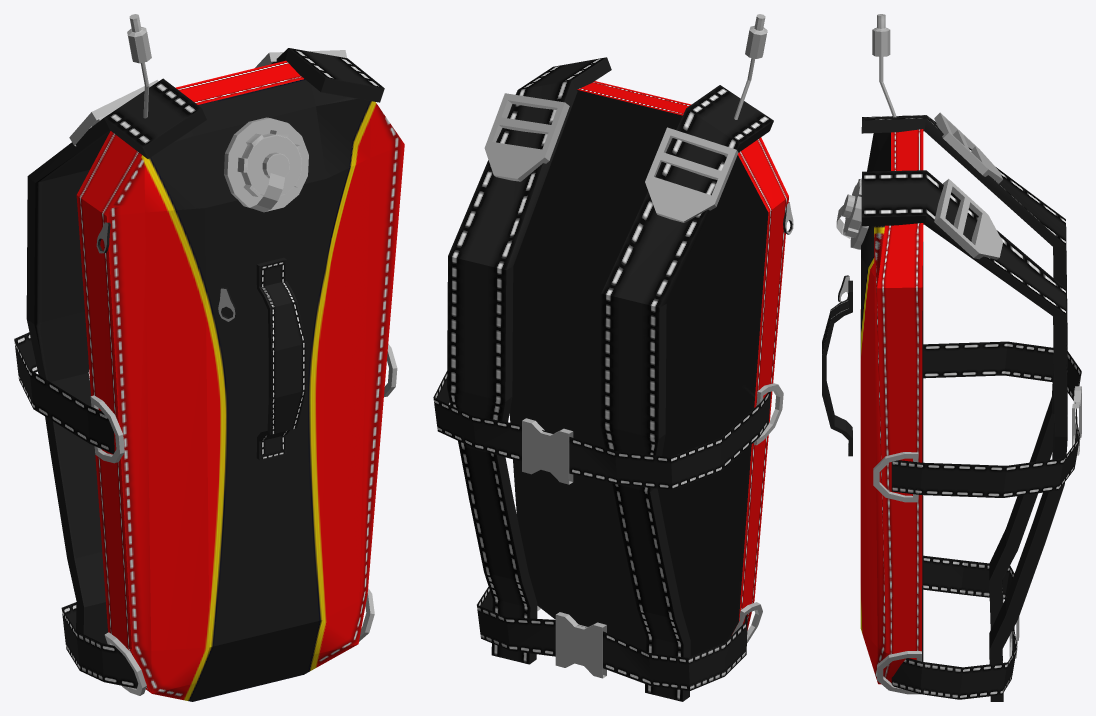
File: BackHydration.FBX
3 views of the same model, side by side, from view 1: azimuth 30°, elevation 25°; view 2: azimuth 150°, elevation 25°; view 3: azimuth 270°, elevation 25° (orthographic). The views are drawn at different scales.
Parts seen in each view (by area): view 1: BackHydration; view 2: BackHydration; view 3: BackHydration.
Part boxes in pixels (box(x1,y1,x2,y2)): BackHydration: box(14, 14, 404, 701); BackHydration: box(433, 14, 793, 701); BackHydration: box(822, 14, 1081, 701).
Bounding box in the file's own units: 11.66 × 25.77 × 10.14.
